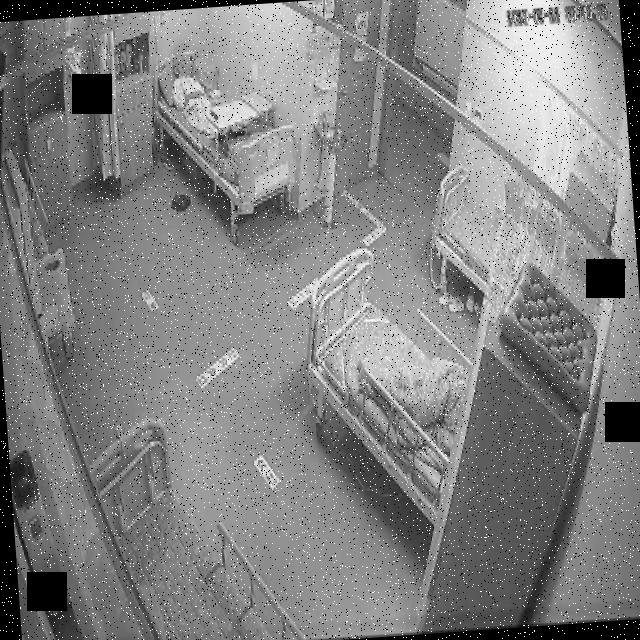bed: (84, 411, 305, 640), (297, 244, 473, 528), (145, 44, 301, 222), (428, 163, 500, 298)
lie: (168, 50, 216, 136)
patient: (168, 52, 215, 138)
